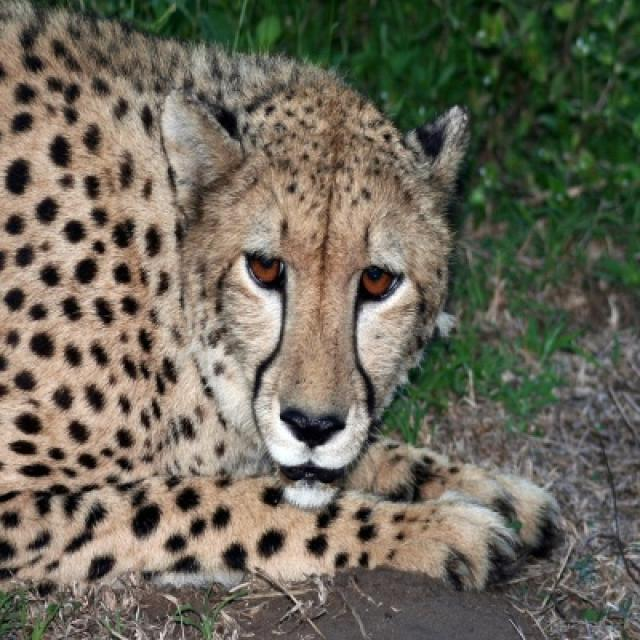Cheetah: (0, 10, 565, 597)
